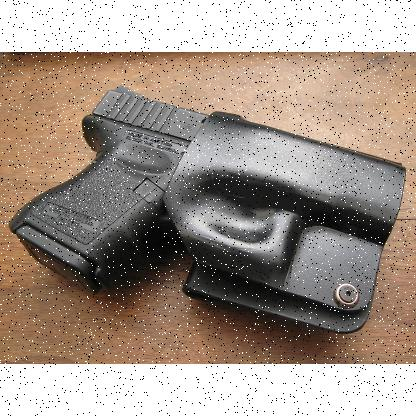gun: (7, 83, 405, 291)
